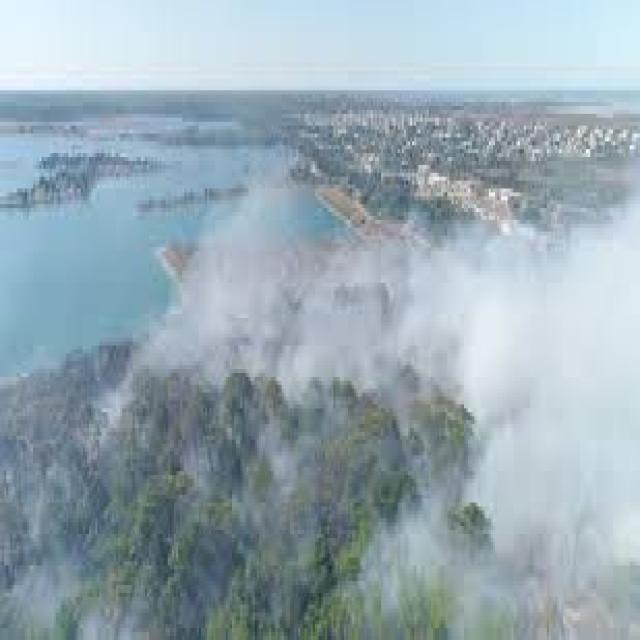Smoke: (2, 137, 240, 640), (243, 145, 455, 640), (455, 116, 639, 640)
